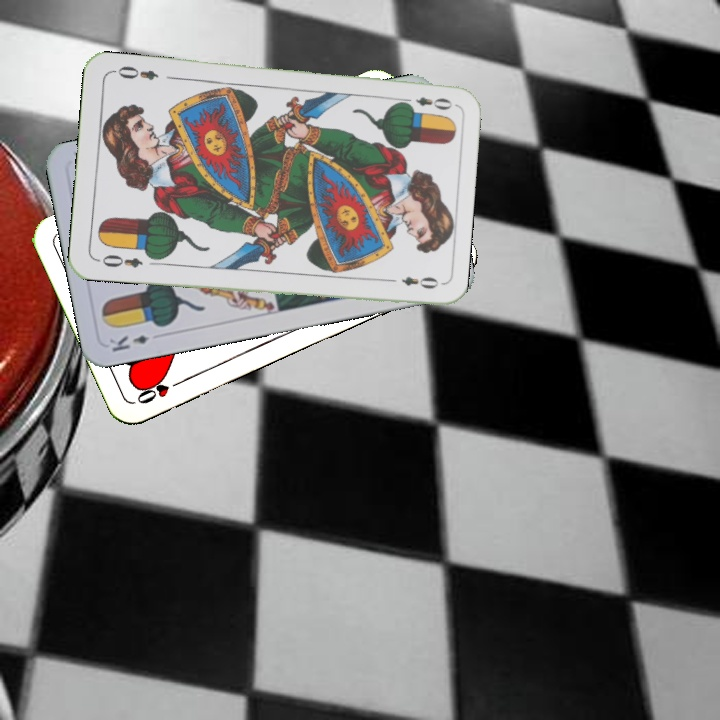EK: (105, 331, 151, 355)
EO: (397, 92, 455, 113), (93, 250, 145, 271)
HO: (132, 375, 188, 407)
